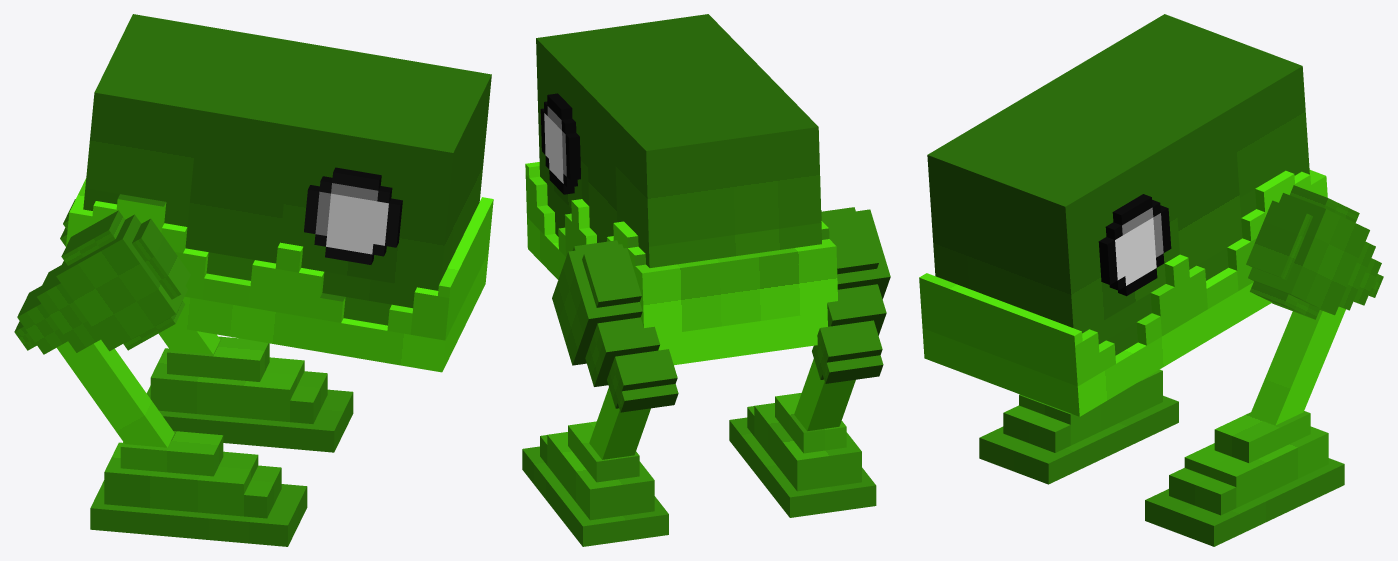
Rendered from monogd.glb.
3 views of the same model, side by side, from view 1: azimuth 30°, elevation 25°; view 2: azimuth 150°, elevation 25°; view 3: azimuth 270°, elevation 25° (orthographic). The views are drawn at different scales.
Visible parts, largest first — view 1: cube.013, cube.014, cube.015, cube, cube.048, cube.055, cube.057, cube.045, cube.056, cube.043, cube.016, cube.059 (+27 smaller); view 2: cube.015, cube.012, cube.013, cube.014, cube, cube.055, cube.043, cube.057, cube.045, cube.036, cube.018, cube.037 (+22 smaller); view 3: cube.013, cube.014, cube.015, cube, cube.001, cube.036, cube.055, cube.043, cube.047, cube.045, cube.016, cube.057 (+20 smaller).
Part boxes in pixels (bbox=[...]): cube.013: bbox=[301, 51, 491, 290]; cube.014: bbox=[185, 31, 329, 263]; cube.015: bbox=[85, 14, 236, 205]; cube: bbox=[171, 253, 488, 372]; cube.048: bbox=[56, 214, 187, 351]; cube.055: bbox=[90, 480, 307, 546]; cube.057: bbox=[104, 442, 258, 516]; cube.045: bbox=[150, 348, 304, 421]; cube.056: bbox=[57, 339, 174, 447]; cube.043: bbox=[146, 385, 353, 452]; cube.016: bbox=[280, 47, 352, 246]; cube.059: bbox=[120, 431, 223, 476]; cube.015: bbox=[614, 94, 821, 246]; cube.012: bbox=[635, 239, 837, 335]; cube.013: bbox=[536, 14, 750, 208]; cube.014: bbox=[585, 65, 786, 241]; cube: bbox=[527, 217, 827, 365]; cube.055: bbox=[729, 417, 876, 517]; cube.043: bbox=[522, 446, 668, 546]; cube.057: bbox=[754, 403, 861, 491]; cube.045: bbox=[547, 432, 654, 520]; cube.036: bbox=[552, 244, 642, 365]; cube.018: bbox=[645, 223, 821, 267]; cube.037: bbox=[585, 317, 659, 386]; cube.013: bbox=[927, 100, 1165, 333]; cube.014: bbox=[1035, 55, 1242, 269]; cube.015: bbox=[1096, 14, 1308, 197]; cube: bbox=[922, 282, 1271, 416]; cube.001: bbox=[920, 288, 1100, 386]; cube.036: bbox=[1248, 193, 1369, 315]; cube.055: bbox=[979, 395, 1178, 484]; cube.043: bbox=[1145, 458, 1344, 546]; cube.047: bbox=[1249, 306, 1345, 425]; cube.045: bbox=[1184, 426, 1328, 507]; cube.016: bbox=[1019, 91, 1179, 262]; cube.057: bbox=[1019, 369, 1162, 445].
Bounding box in the file's own units: 490 × 448 × 474.
1 material, 1 textured.
